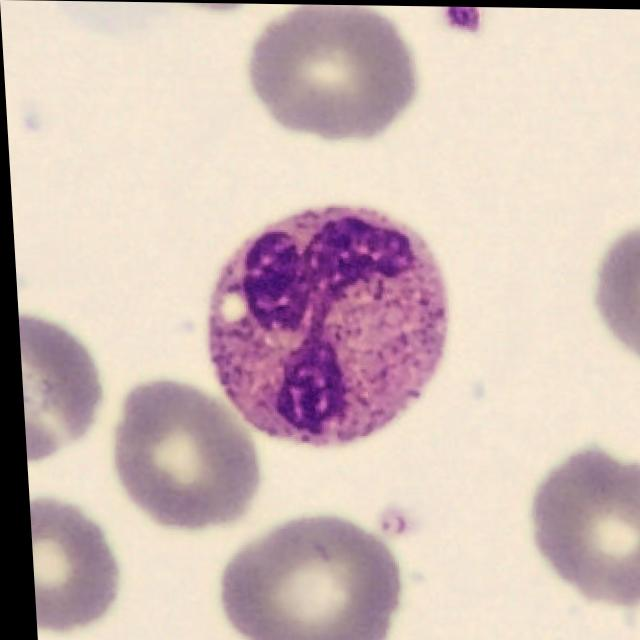Neutrofilo segmentado: (202, 205, 446, 448)
